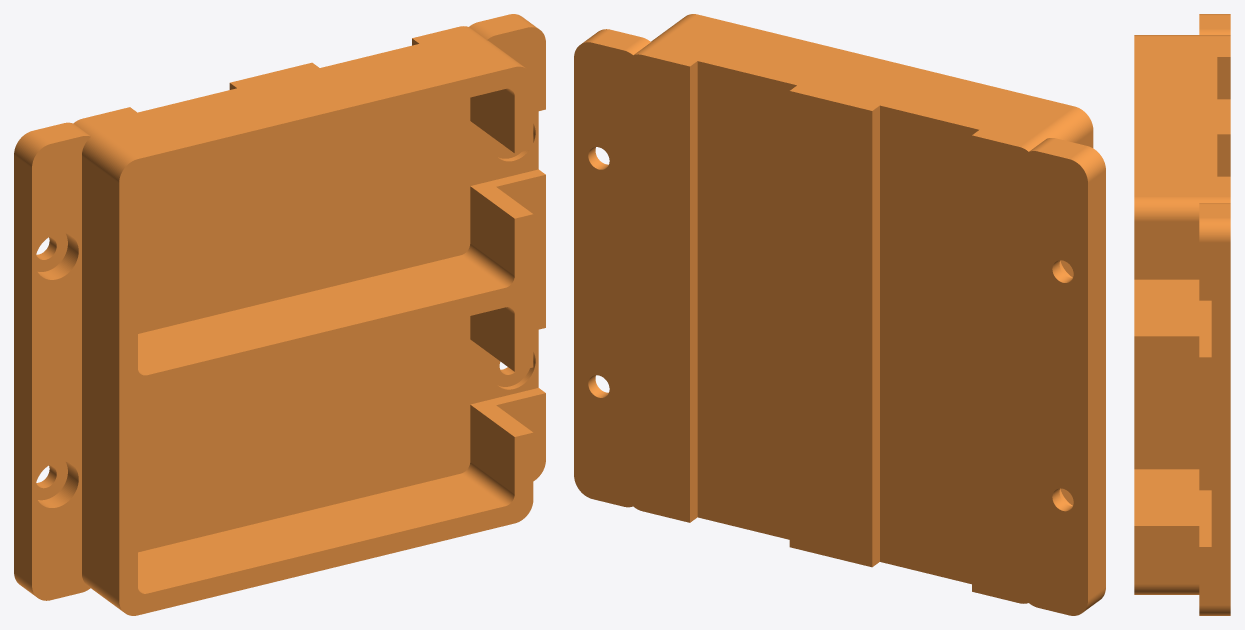
File: tpu-battery-cradle.glb
The picture shows the model from 3 angles, left to right: view 1: azimuth 30°, elevation 25°; view 2: azimuth 150°, elevation 25°; view 3: azimuth 270°, elevation 25°; orthographic projection. The views are drawn at different scales.
Visible parts, largest first — view 1: solid_000; view 2: solid_000; view 3: solid_000.
Part boxes in pixels (box(x1,y1,x2,y2)): solid_000: box(14, 14, 545, 615); solid_000: box(574, 14, 1105, 615); solid_000: box(1134, 14, 1230, 615).
Size of the model in its own units: 82.5 by 70 by 15.38.
